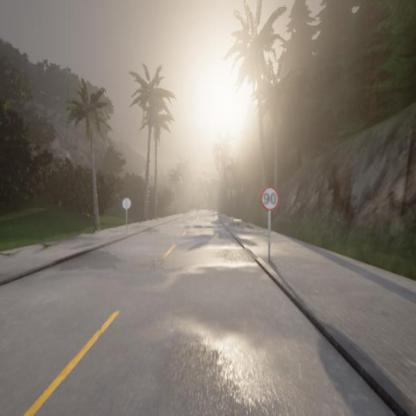traffic_sign_90: (260, 187, 280, 209)
